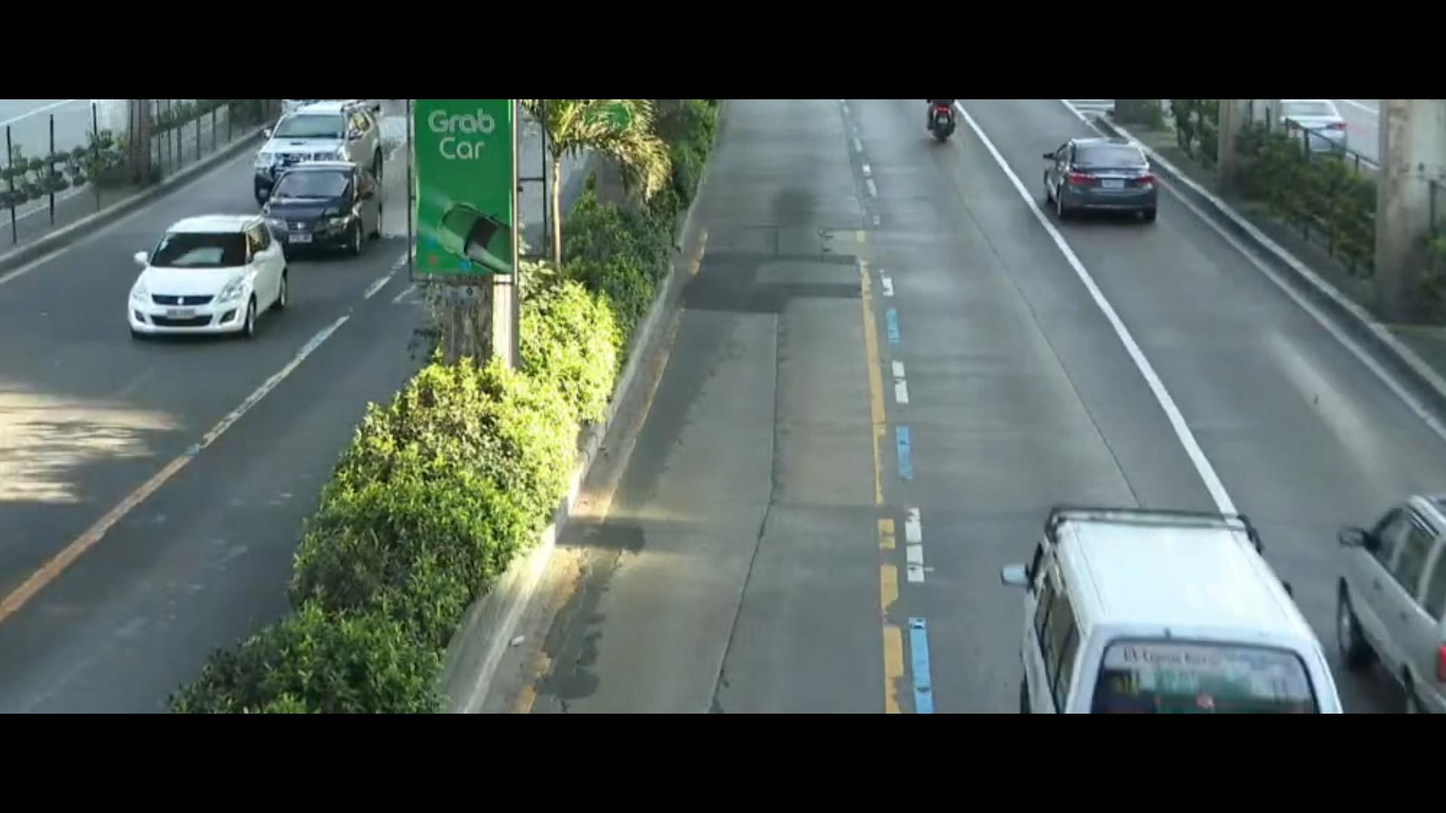Motorcycle: (895, 93, 975, 167)
SUV: (1318, 452, 1446, 713), (248, 88, 397, 190)
Sedan: (109, 201, 304, 362), (254, 154, 400, 264), (1025, 123, 1170, 232)
Van: (954, 457, 1349, 717)
